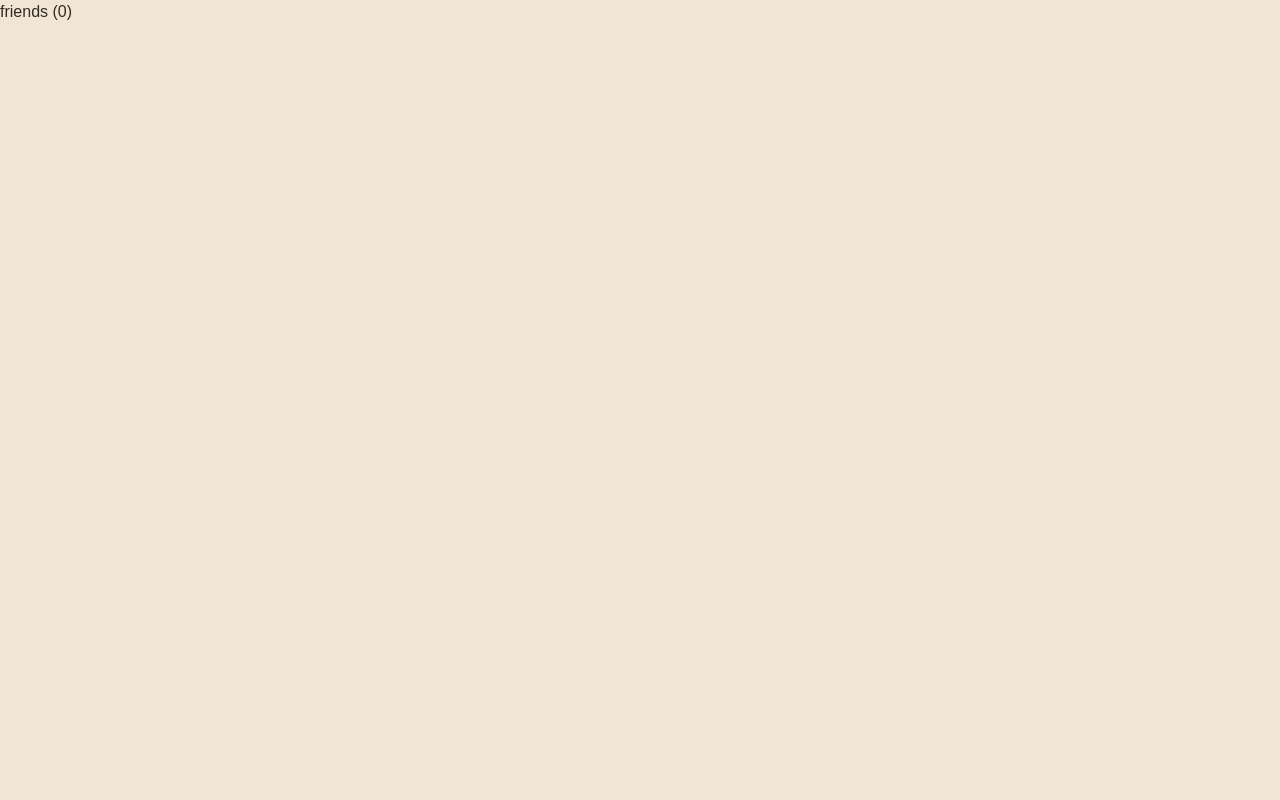
Test: FriendsPanel › prompts to search when there are no friends
Click the button "friends (0)" at point(36, 12), box [0, 0, 72, 24]
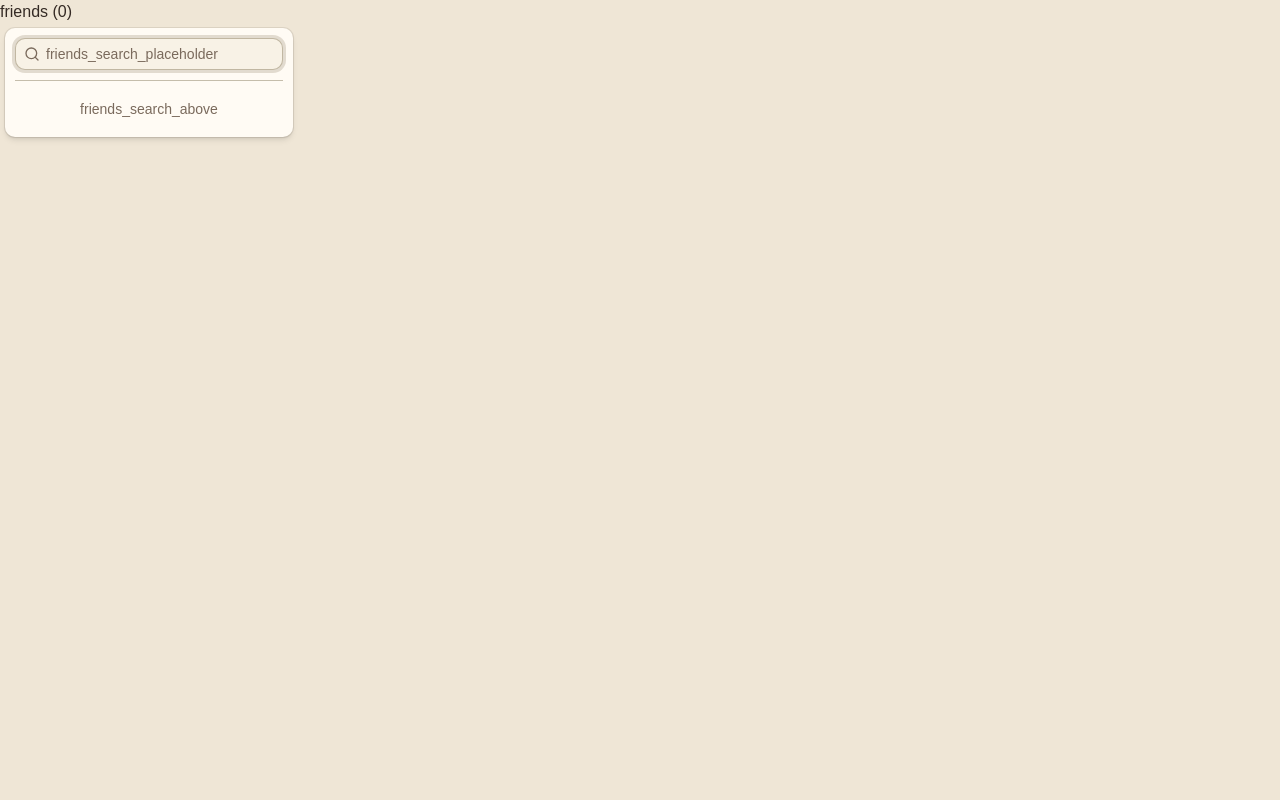
Expected: the text "friends_search_above" is shown, [80, 101, 218, 117]
